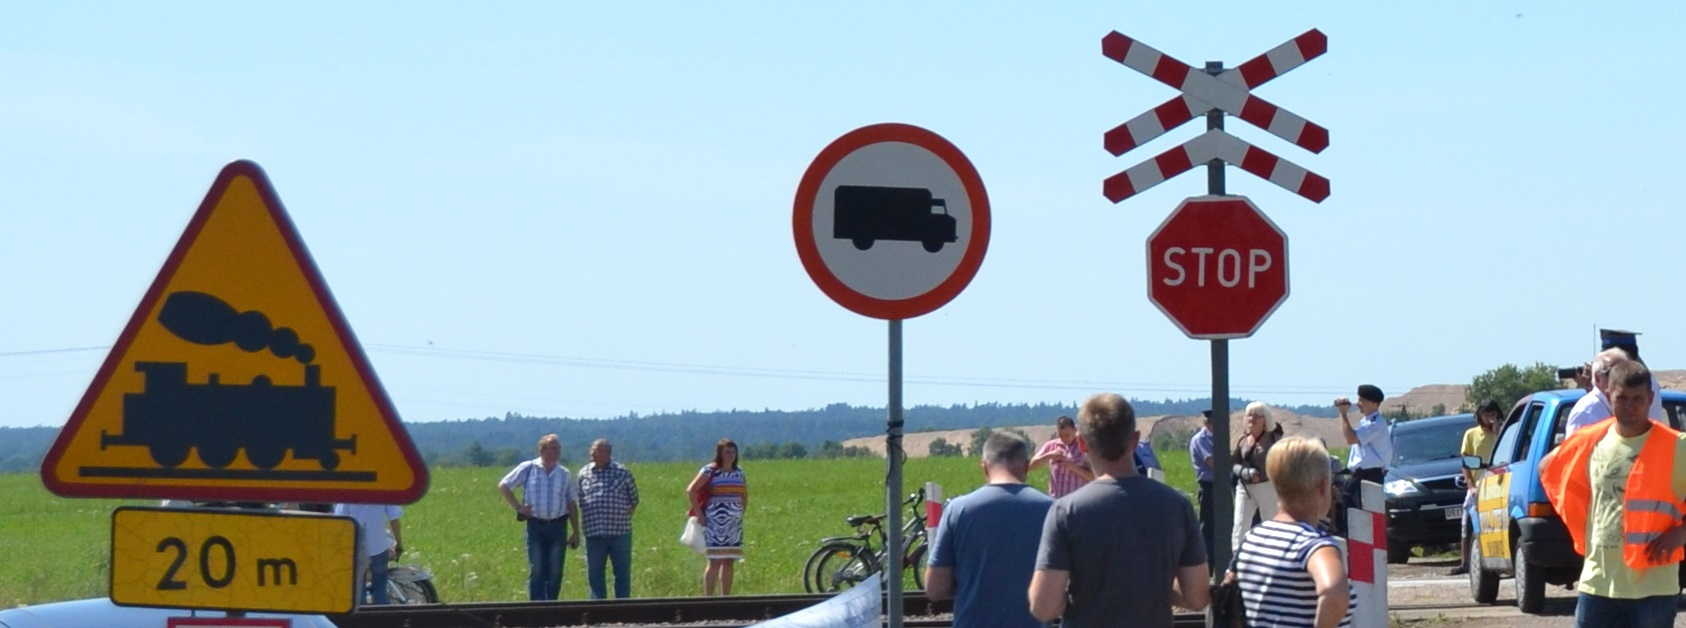a10: (74, 286, 387, 493)
